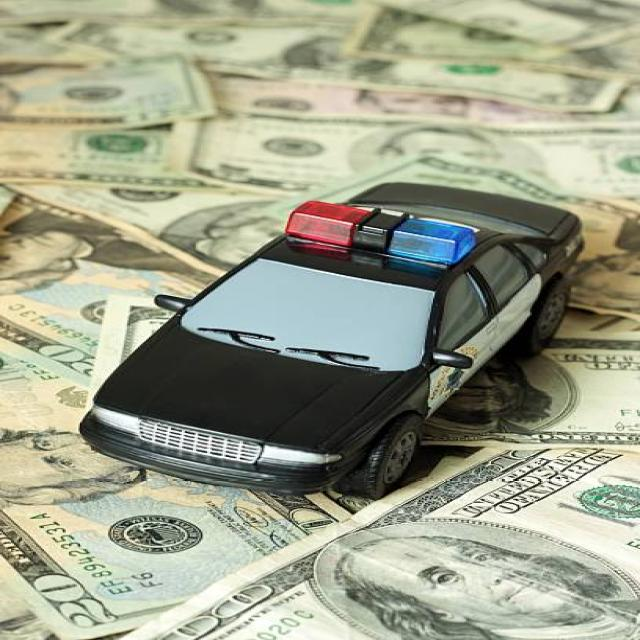Car: (77, 180, 585, 500)
